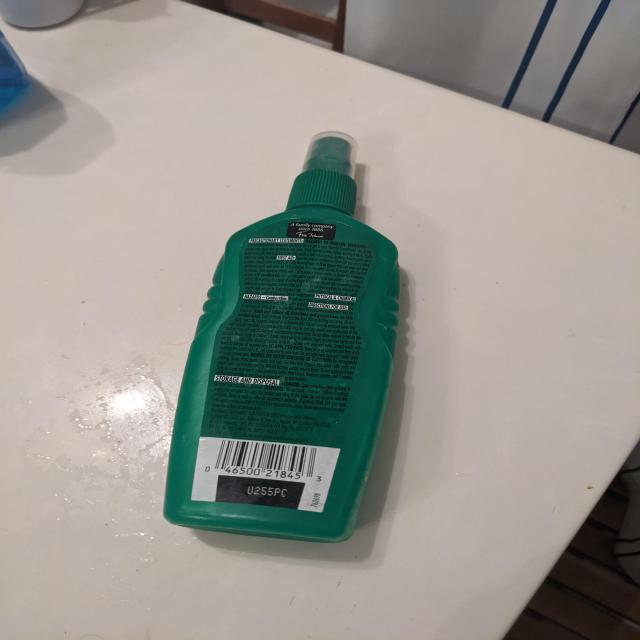litter: (162, 127, 404, 544)
